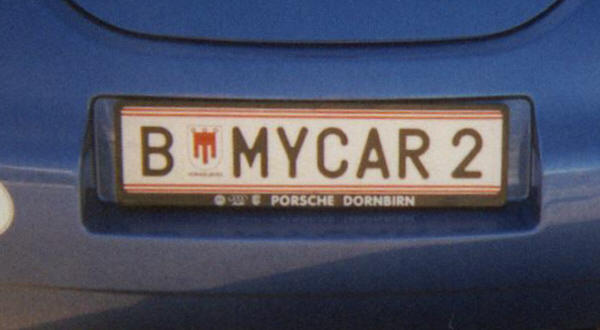license_plate: (119, 104, 506, 196)
